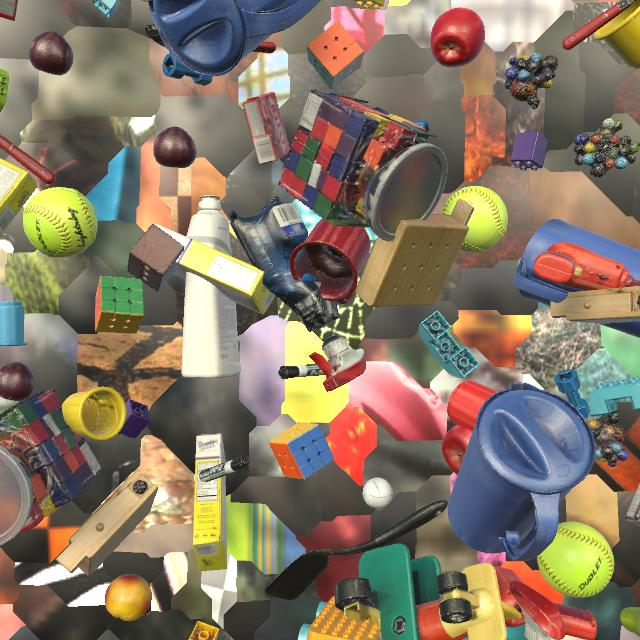ycb_004_sugar_box: (155, 224, 275, 315), (193, 433, 227, 571), (0, 158, 37, 235)
ycb_008_pudding_box: (625, 483, 640, 527)
ycb_009_gelatin_box: (242, 92, 290, 165), (0, 0, 18, 21)
ycb_013_apple: (430, 8, 485, 68), (441, 425, 472, 475)
ycb_015_peach: (105, 574, 152, 621)
ycb_016_pear: (620, 607, 640, 637)
ycb_018_plum: (29, 31, 73, 75), (153, 127, 197, 168), (0, 362, 35, 401)
